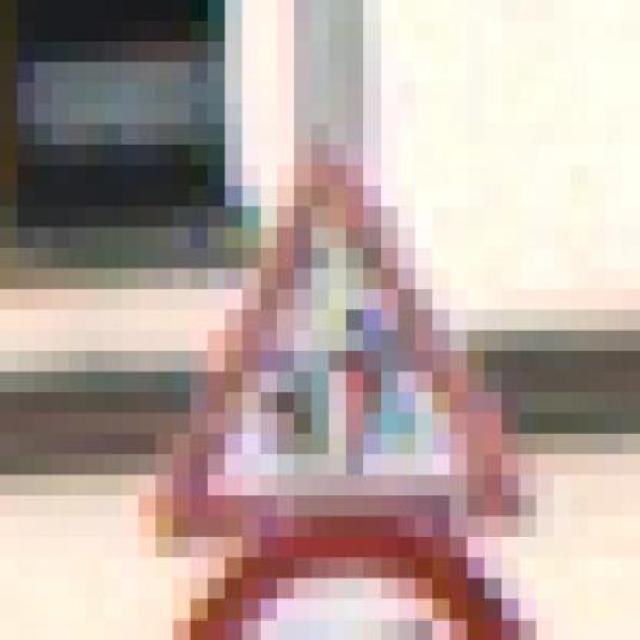Beware of children: (86, 123, 537, 537)
